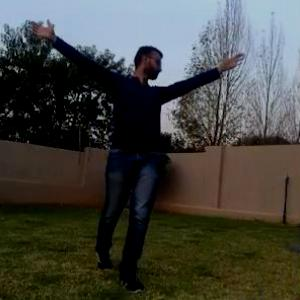takeoff: (58, 0, 260, 298)
